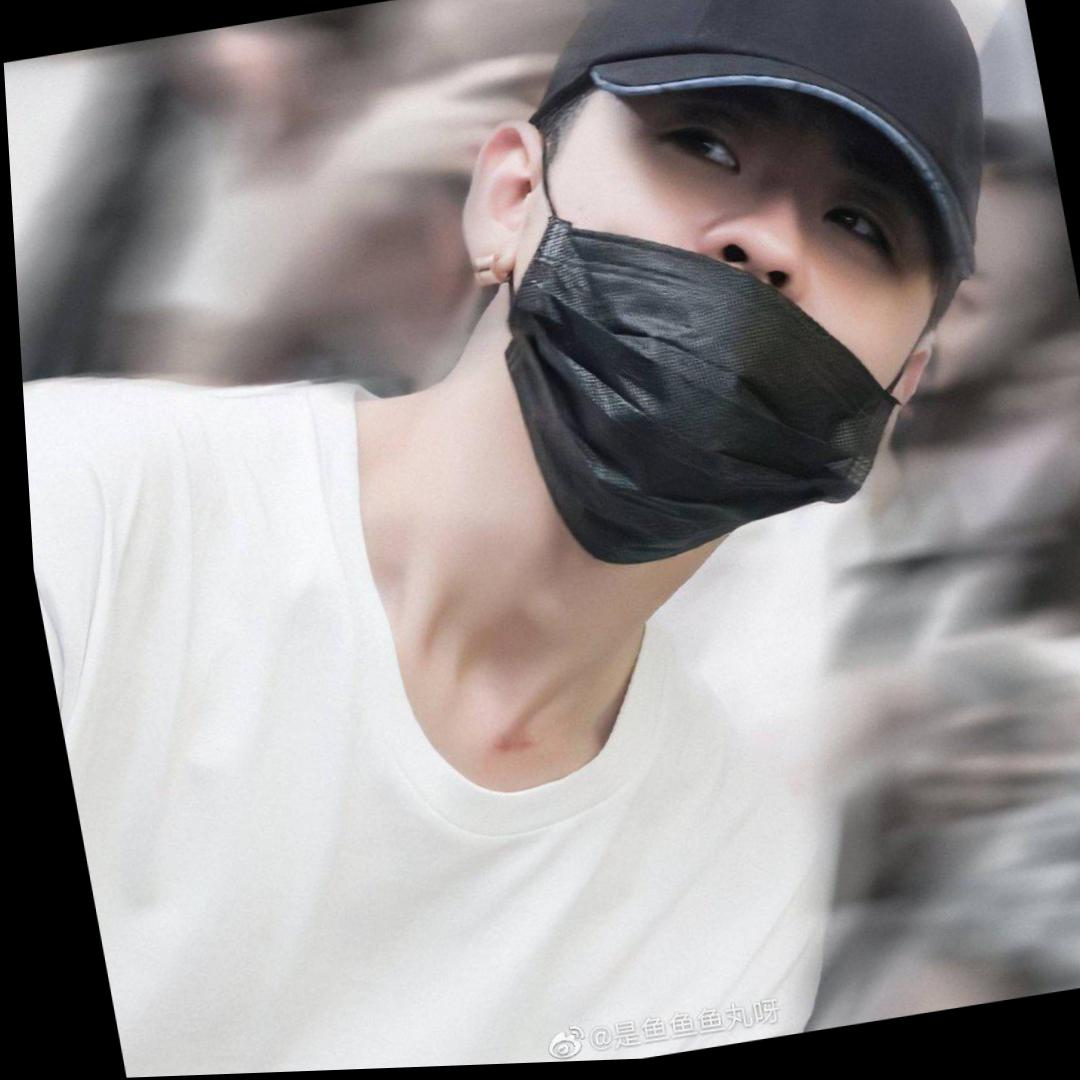WRONG: (483, 76, 963, 535)
